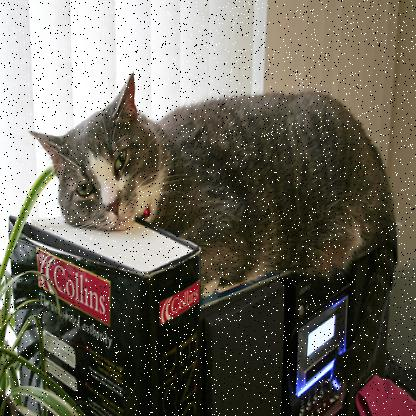cat: (58, 71, 402, 380)
